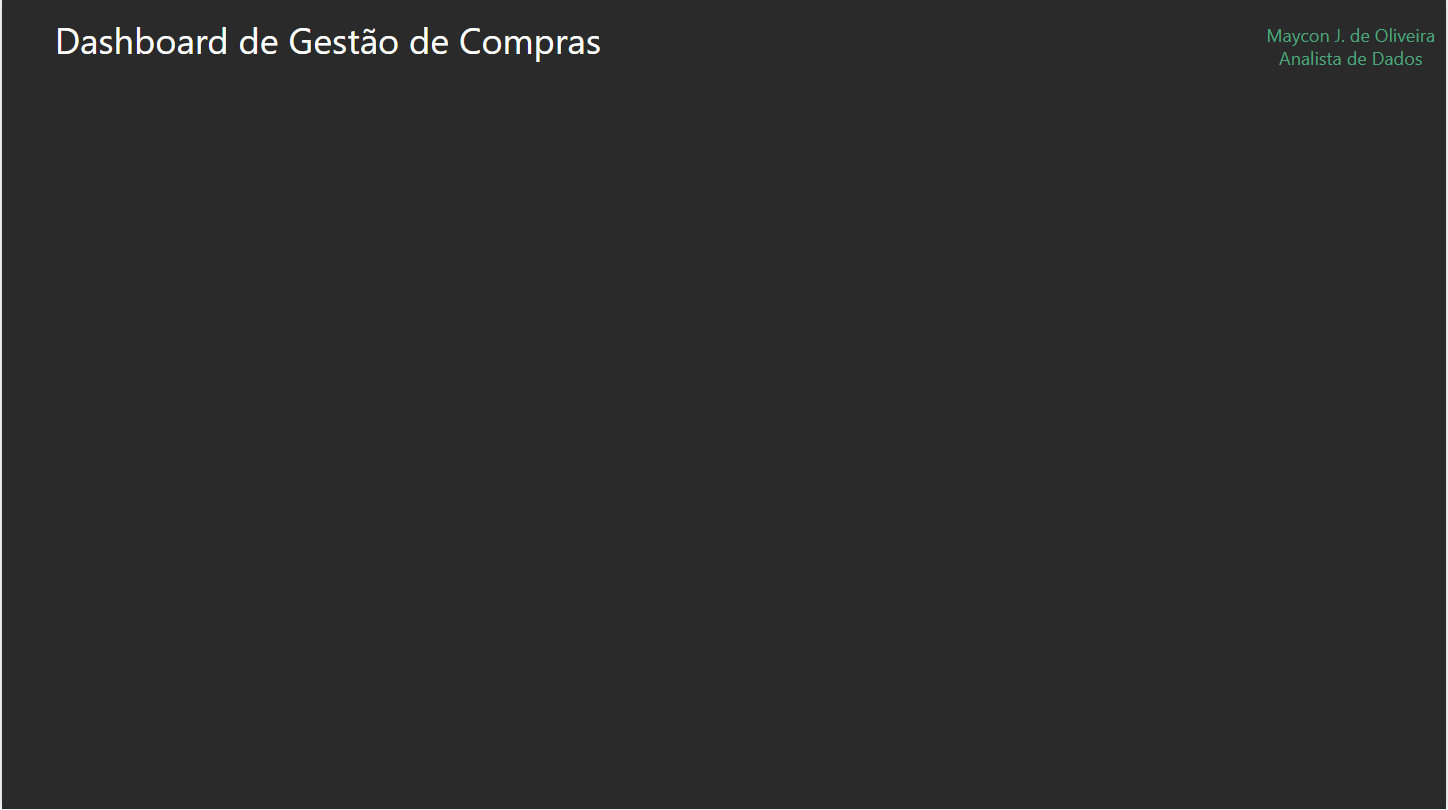

What the dashboard file says about the page in this screenshot:
{"tool":"powerbi","page":{"name":"Capa","canvas":[1280,720],"ordinal":0},"visuals":[{"type":"actionButton","box":[952.3,664.1,312.1,45.2],"z":0}]}

Visuals, with their boxes in screenshot pixels (x1, y1, x2, y2), scaled from the page's 1280x720 canvas onto the 1448x810 screenshot:
actionButton: Rect(1077, 747, 1430, 798)
